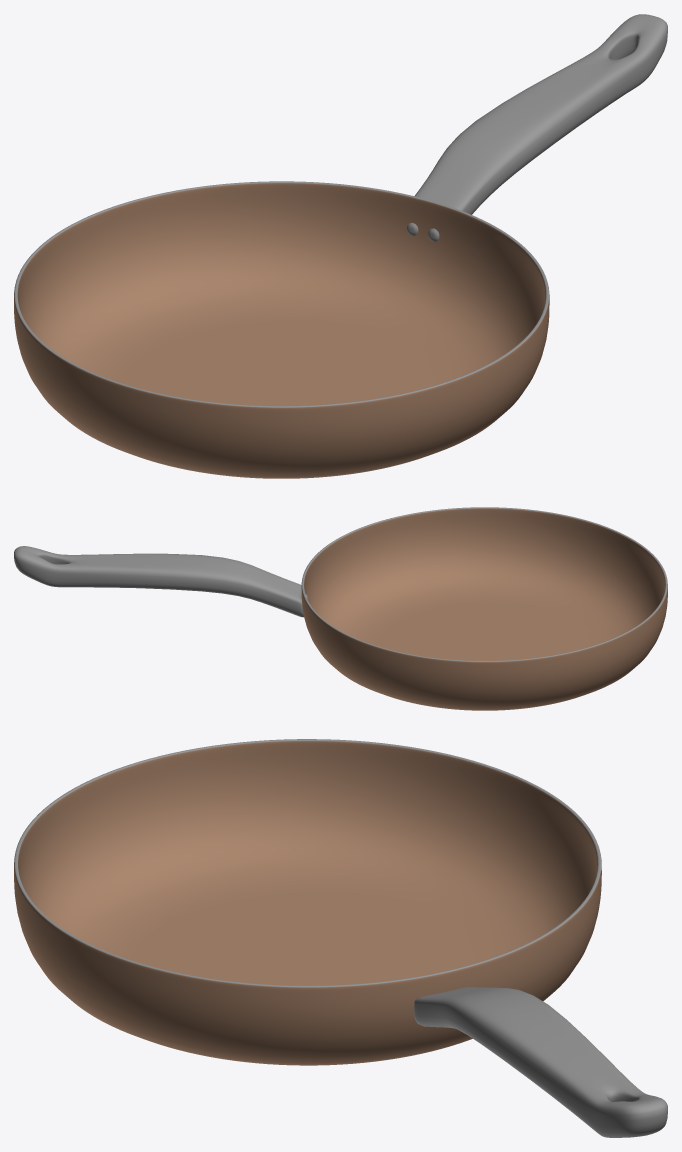
Rendered from Wajan Penggorengan.fbx.
The picture shows the model from 3 angles, top to bottom: view 1: azimuth 30°, elevation 25°; view 2: azimuth 150°, elevation 25°; view 3: azimuth 270°, elevation 25°; orthographic projection. The views are drawn at different scales.
Visible parts, largest first — view 1: Pan main, Pan main.001; view 2: Pan main, Pan main.001; view 3: Pan main, Pan main.001.
Boxes of the visible parts, x1,y1,x2,y2 form: Pan main: (14,181,549,478); Pan main.001: (414,14,667,214); Pan main: (301,507,667,710); Pan main.001: (14,546,303,617); Pan main: (14,739,601,1065); Pan main.001: (414,987,667,1137).
Bounding box in the file's own units: 333 × 56.06 × 224.
